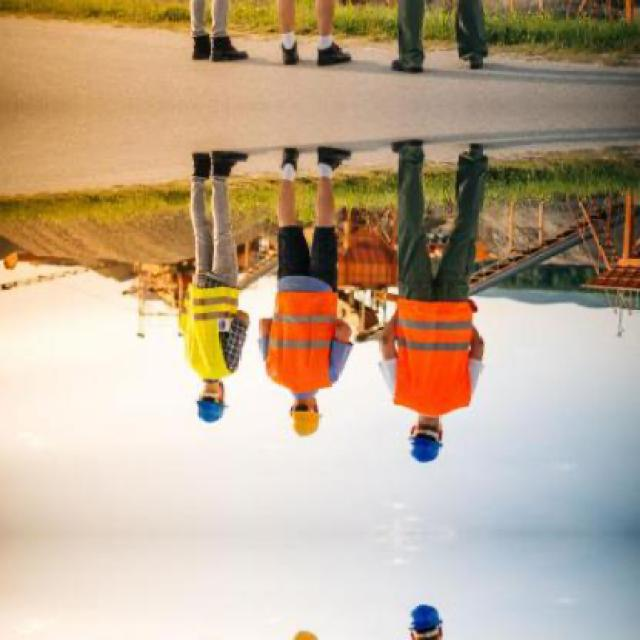con casco: (266, 325, 354, 441), (396, 369, 472, 487), (178, 367, 247, 439)
